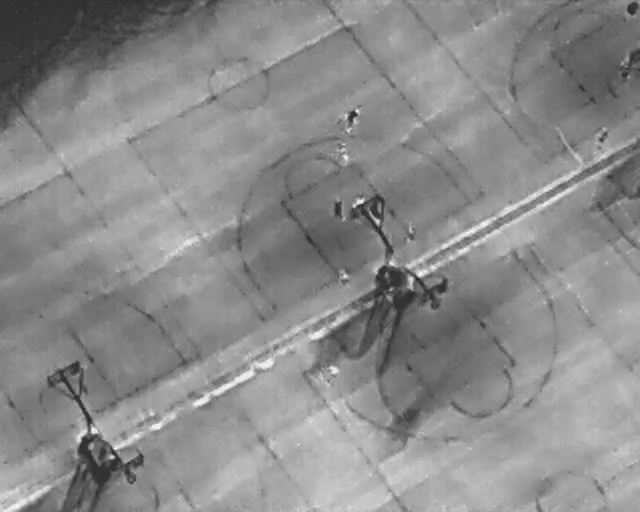Person: (337, 101, 364, 136), (593, 123, 612, 146), (336, 138, 351, 163), (336, 266, 351, 288), (351, 191, 368, 210), (617, 52, 633, 71), (404, 220, 417, 243), (332, 197, 344, 220), (626, 0, 639, 16), (326, 363, 341, 376)
